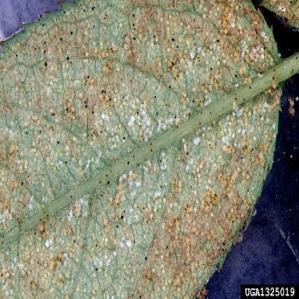spider mite: (0, 0, 289, 299)
